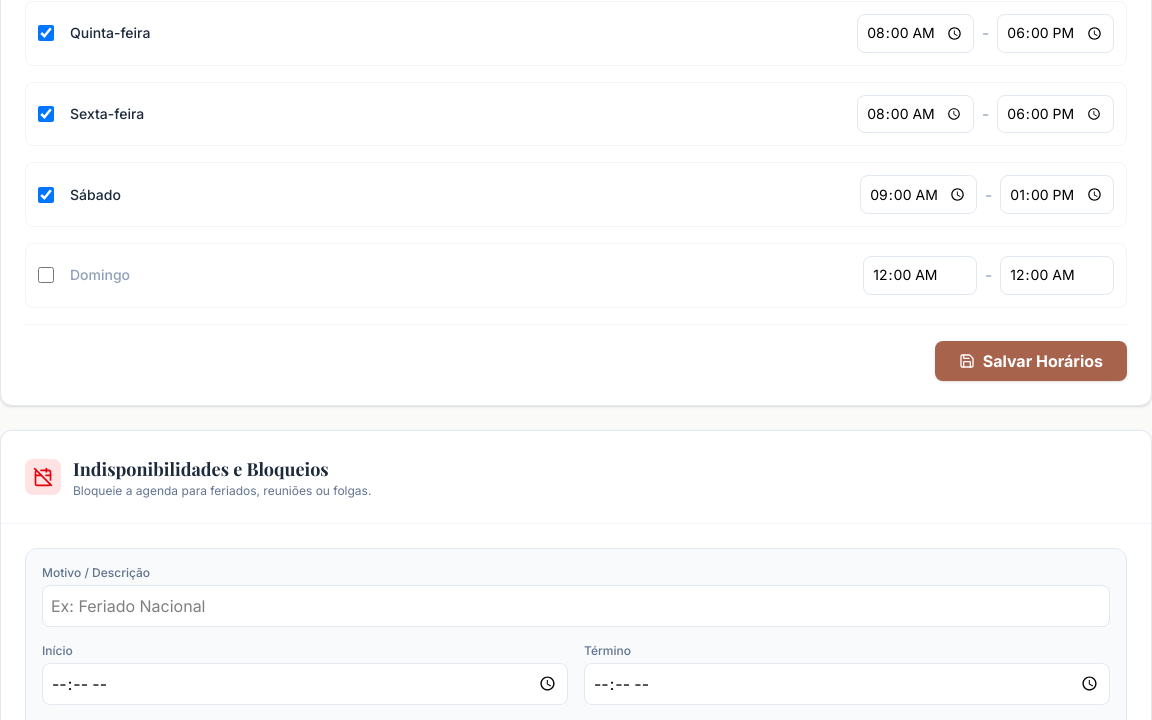
pages/BusinessHoursSettings — salvar horário de funcionamento › falha de updateCompany ({ success: false }) mostra o toast de erro com a mensagem retornada
(page scrolled)
Click the button "Salvar Horários" at (1031, 361), box [935, 341, 1127, 381]
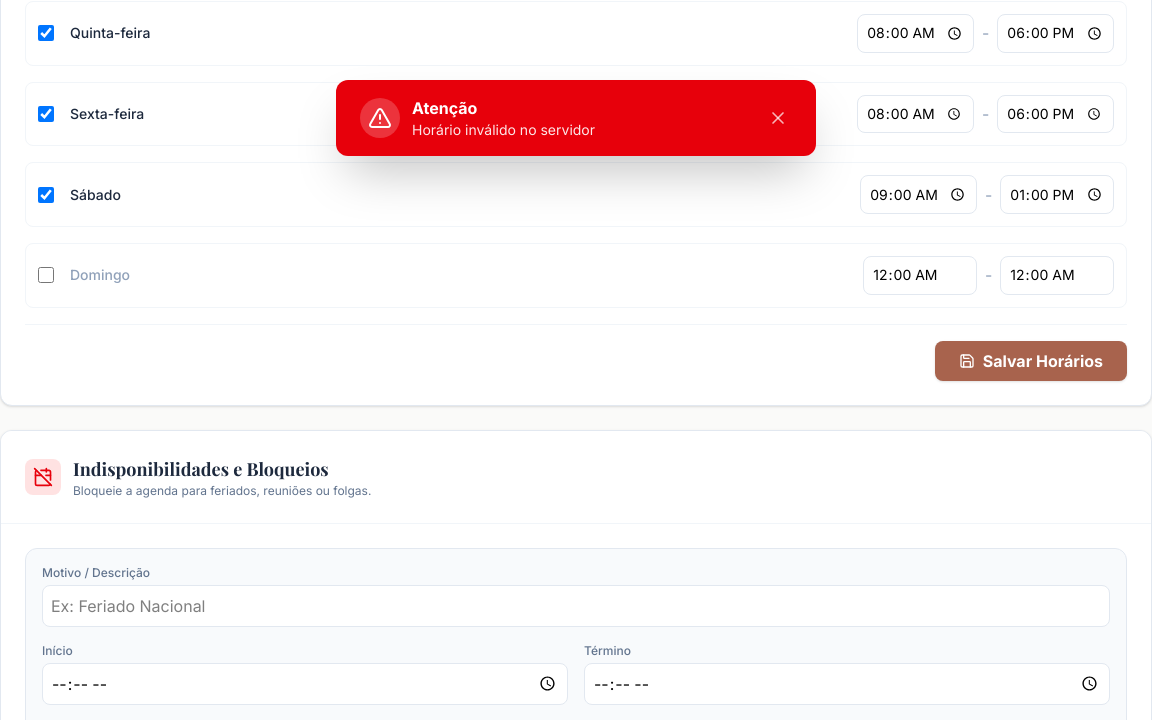
Expected: the text "Horário inválido no servidor" is shown, [412, 120, 595, 140]
